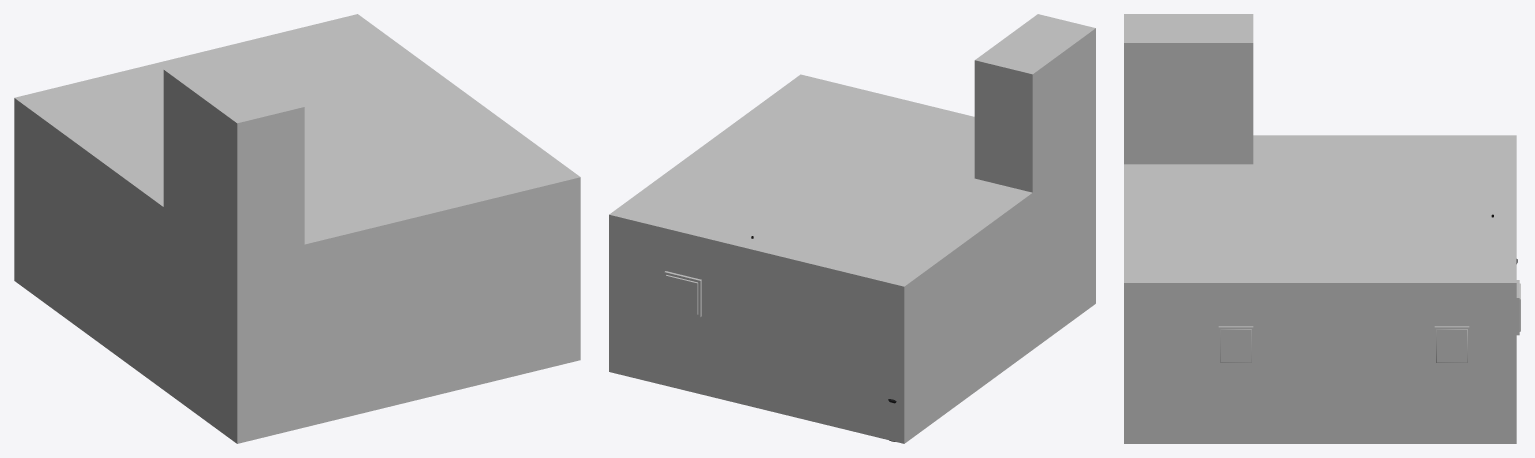
File: Basement.FBX
The picture shows the model from 3 angles, left to right: view 1: azimuth 30°, elevation 25°; view 2: azimuth 150°, elevation 25°; view 3: azimuth 270°, elevation 25°; orthographic projection. The views are drawn at different scales.
Visible parts, largest first — view 1: basement; view 2: basement; view 3: basement.
Boxes of the visible parts, <box> form: basement: <box>14,14,580,443</box>; basement: <box>609,14,1095,443</box>; basement: <box>1124,14,1520,443</box>.
Size of the model in its own units: 42.29 by 37.47 by 47.68.
